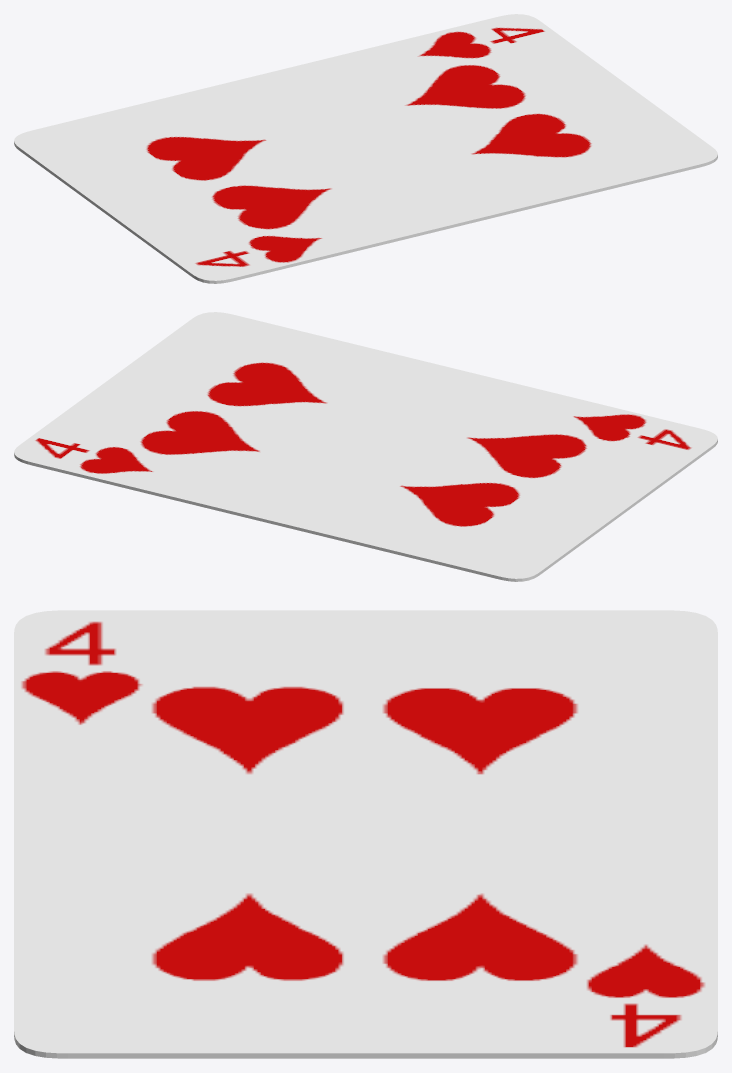
File: 4_of_hearts.gltf
3 renders of one model, top to bottom at view 1: azimuth 30°, elevation 25°; view 2: azimuth 150°, elevation 25°; view 3: azimuth 270°, elevation 25°, orthographic. The views are drawn at different scales.
Visible parts, largest first — view 1: Plane; view 2: Plane; view 3: Plane.
Part boxes in pixels (x1,y1,x2,y2): Plane: (14,14,717,283); Plane: (14,312,717,581); Plane: (14,610,717,1058).
Bounding box in the file's own units: 0.09 × 0.0005 × 0.0605.
Materials: 1 (1 with a texture image).
